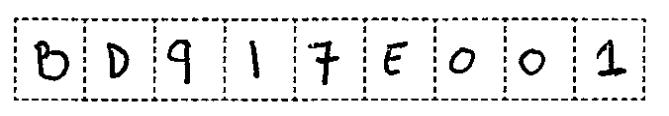0: (514, 42, 550, 80), (444, 43, 478, 77)
1: (588, 35, 632, 85), (238, 36, 272, 84)
7: (303, 34, 344, 90)
9: (162, 34, 198, 88)
B: (29, 37, 74, 87)
D: (97, 36, 142, 86)
E: (378, 37, 415, 80)
